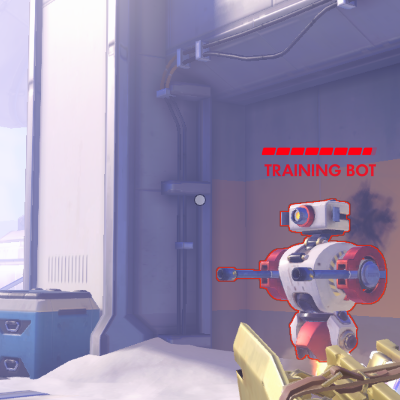hpbar: (261, 147, 377, 156)
